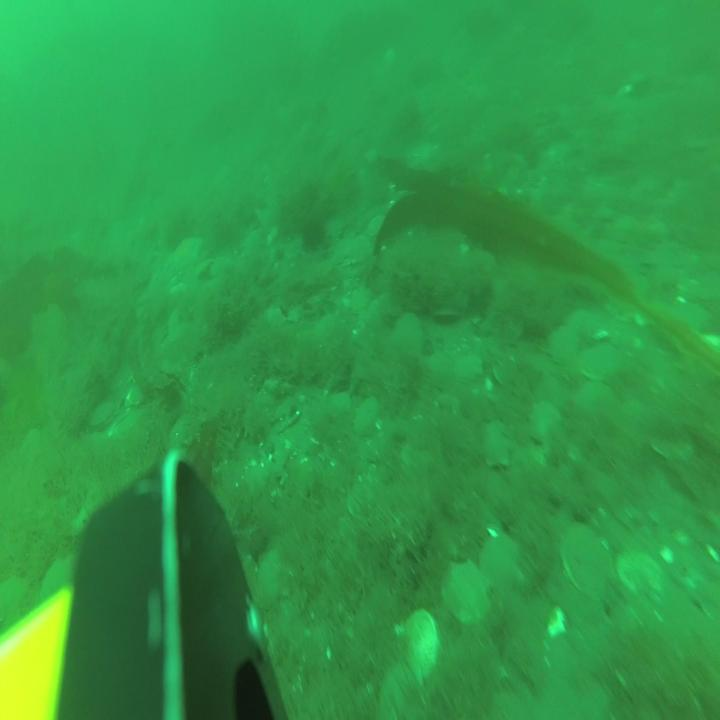echinus: (299, 212, 330, 256)
scallop: (559, 522, 615, 601), (441, 556, 493, 627), (480, 532, 526, 606), (404, 604, 442, 679), (615, 548, 664, 606), (254, 544, 295, 610), (376, 662, 414, 720), (476, 414, 513, 472), (579, 342, 625, 385), (529, 399, 563, 452), (491, 352, 529, 399), (391, 312, 424, 364), (648, 430, 694, 464), (546, 323, 580, 367), (84, 398, 118, 434), (354, 393, 381, 438), (453, 352, 484, 387), (244, 462, 270, 502), (166, 302, 188, 344), (328, 388, 353, 420), (434, 304, 463, 328), (350, 285, 371, 315), (366, 213, 387, 237)
starfish: (170, 232, 204, 272)
